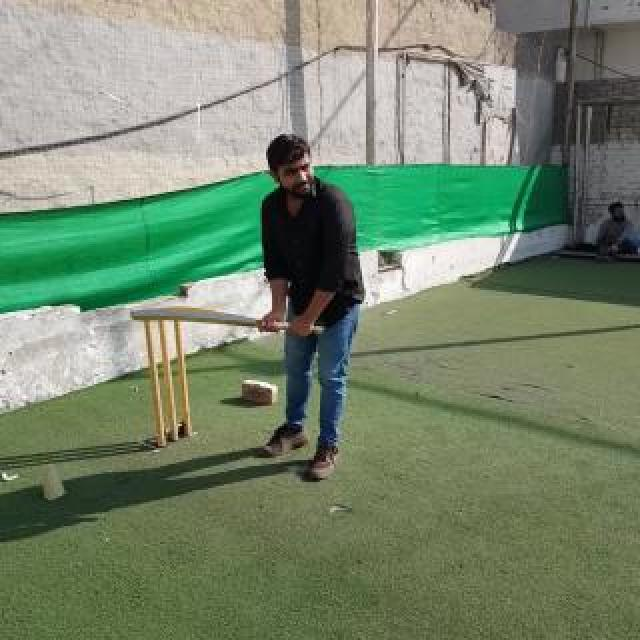bat: (130, 306, 324, 334)
